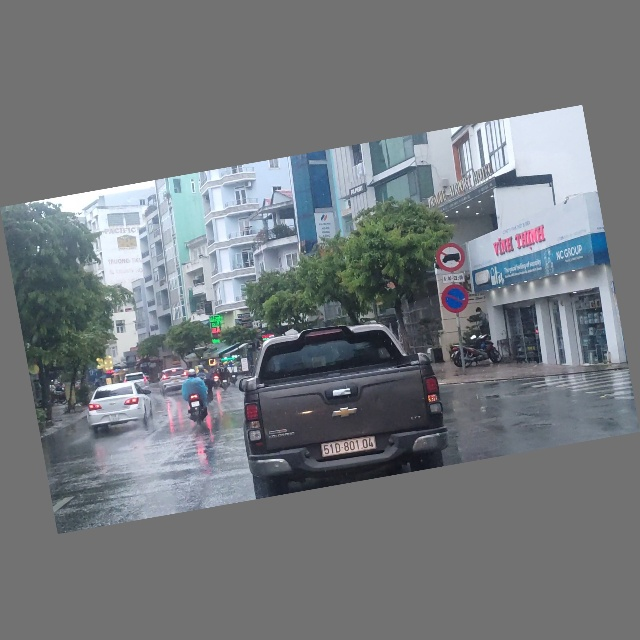P.106a*Xe tai: (435, 241, 468, 276)
P.131a: (439, 282, 471, 316)
